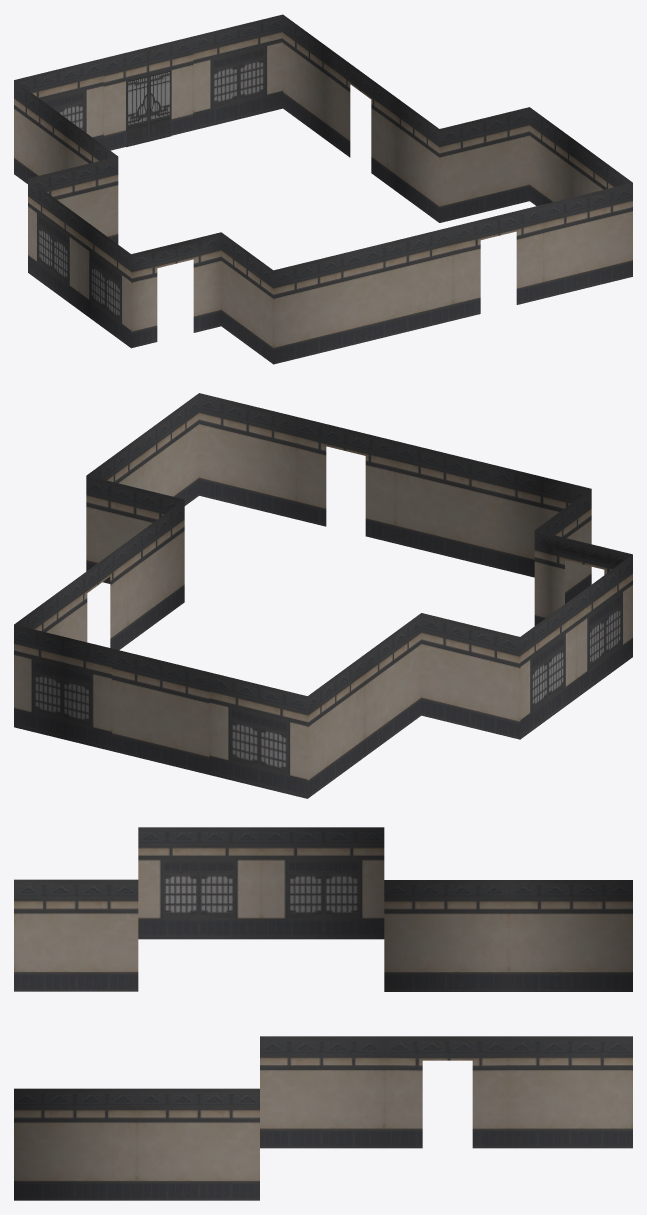
Rendered from Homeworld_Interior_Dq_Room_E_Filling_01_Vo.fbx.
3 views of the same model, one above another, from view 1: azimuth 30°, elevation 25°; view 2: azimuth 150°, elevation 25°; view 3: azimuth 270°, elevation 25° (orthographic). The views are drawn at different scales.
Visible parts, largest first — view 1: Homeworld_Interior_Dq_Room_E_Filling_01_Vo; view 2: Homeworld_Interior_Dq_Room_E_Filling_01_Vo; view 3: Homeworld_Interior_Dq_Room_E_Filling_01_Vo.
Boxes of the visible parts, x1,y1,x2,y2 form: Homeworld_Interior_Dq_Room_E_Filling_01_Vo: (14,14,632,364); Homeworld_Interior_Dq_Room_E_Filling_01_Vo: (14,393,632,798); Homeworld_Interior_Dq_Room_E_Filling_01_Vo: (14,827,632,1200).
Size of the model in its own units: 24.9 by 4.98 by 24.92.
